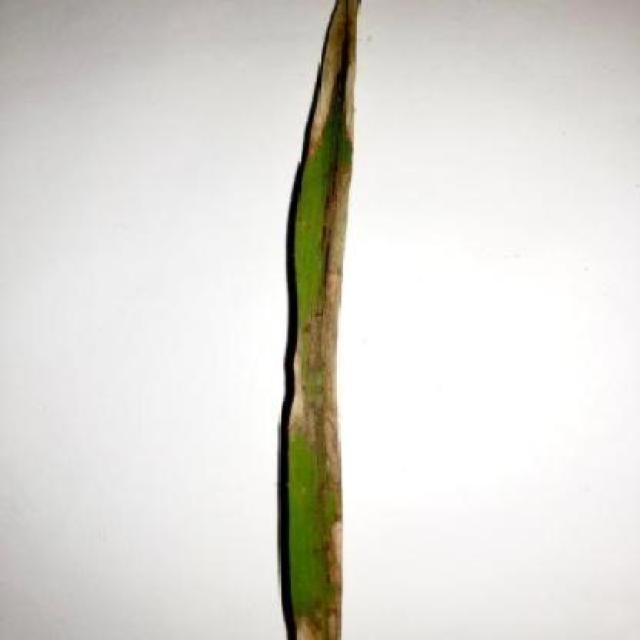Brown_Spot: (270, 0, 368, 640)
